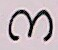sum: (1, 3, 58, 48)
